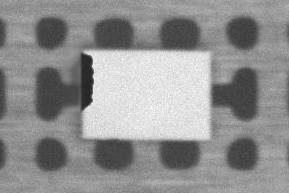DIE_BROKEN: (117, 31, 144, 77)
